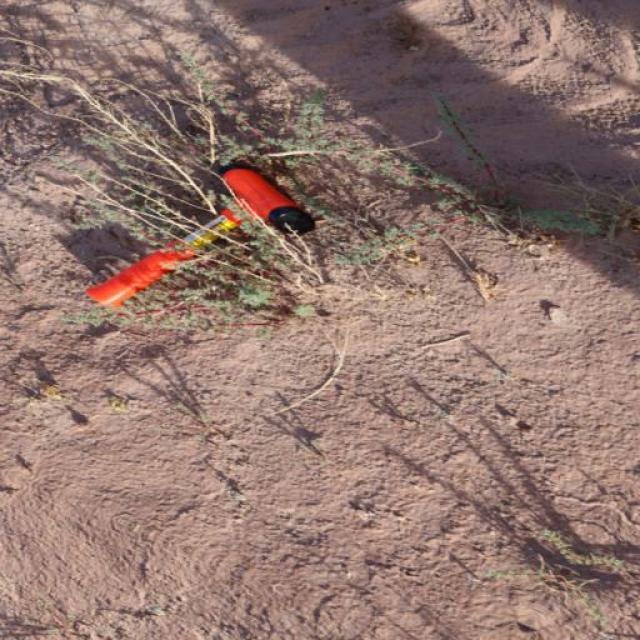mallet: (84, 158, 318, 312)
